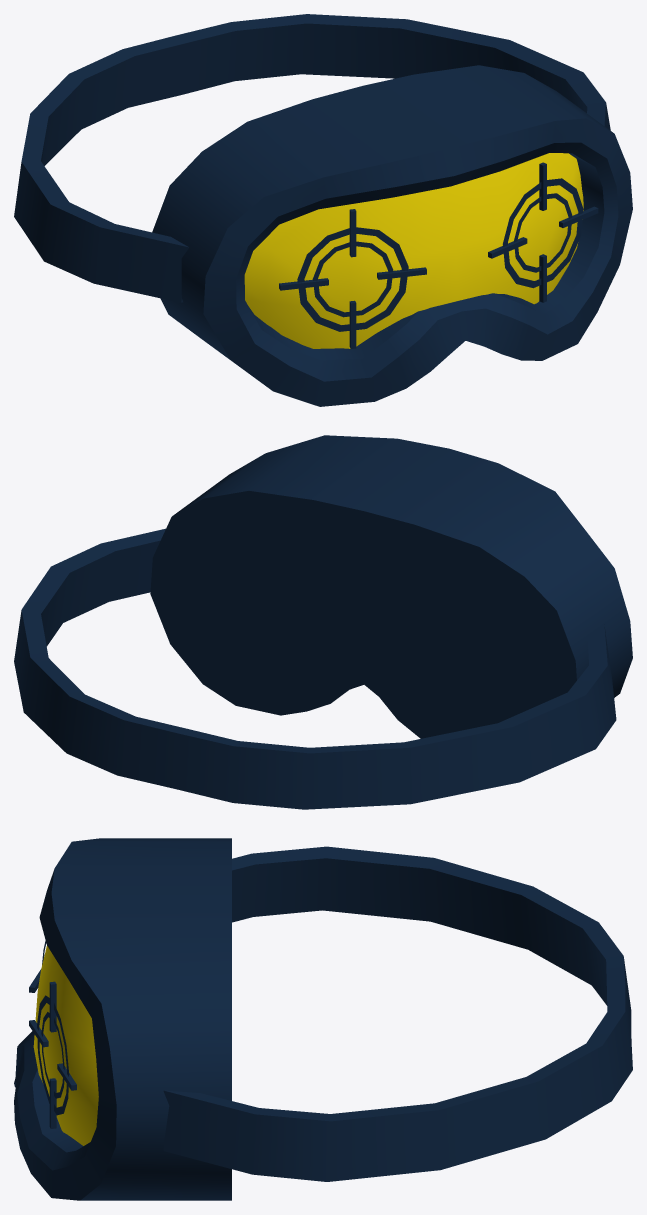
Rendered from Sight_glasses.fbx.
The picture shows the model from 3 angles, top to bottom: view 1: azimuth 30°, elevation 25°; view 2: azimuth 150°, elevation 25°; view 3: azimuth 270°, elevation 25°; orthographic projection. The views are drawn at different scales.
Visible parts, largest first — view 1: Sight_glasses.c, Sight_glasses; view 2: Sight_glasses.c, Sight_glasses; view 3: Sight_glasses.c, Sight_glasses.
Boxes of the visible parts, <box> form: Sight_glasses.c: <box>152,65,632,406</box>; Sight_glasses: <box>14,14,610,302</box>; Sight_glasses.c: <box>150,435,632,738</box>; Sight_glasses: <box>14,528,616,809</box>; Sight_glasses.c: <box>14,838,231,1200</box>; Sight_glasses: <box>163,846,632,1181</box>.
Size of the model in its own units: 0.7195 by 0.2827 by 0.6642.
